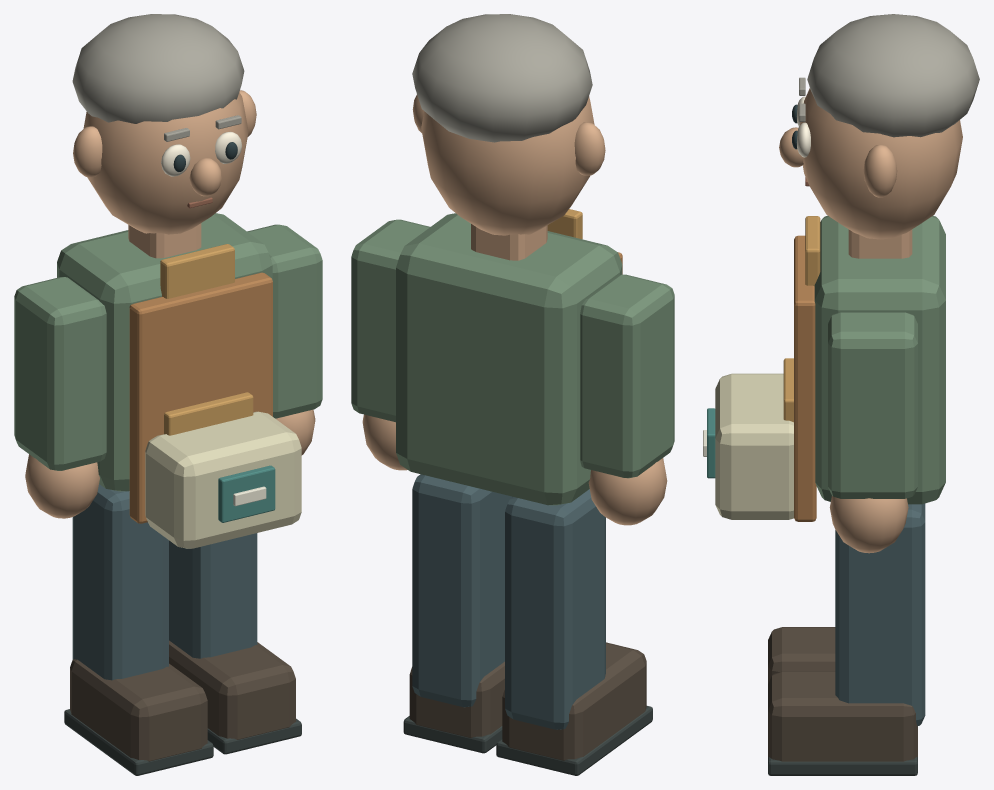
Rendered from master.glb.
3 views of the same model, side by side, from view 1: azimuth 30°, elevation 25°; view 2: azimuth 150°, elevation 25°; view 3: azimuth 270°, elevation 25° (orthographic). The views are drawn at different scales.
Visible parts, largest first — view 1: Apron, Sleeve, Trouser leg, Hair cap, Aid kit case, Jacket, Face, Boot, Trouser leg.001, Sleeve.001, Boot.001, Hand (+11 smaller); view 2: Jacket, Trouser leg, Trouser leg.001, Hair cap, Sleeve, Face, Sleeve.001, Boot, Boot.001, Hand, Sole, Neck (+4 smaller); view 3: Jacket, Sleeve.001, Hair cap, Trouser leg.001, Face, Aid kit case, Boot.001, Apron, Hand.001, Boot, Sole.001, Neck (+5 smaller).
Part boxes in pixels (left/top/right/bottom): Apron: left=129, top=272, right=272, bottom=523; Sleeve: left=14, top=277, right=106, bottom=470; Trouser leg: left=72, top=484, right=168, bottom=680; Hair cap: left=72, top=14, right=244, bottom=123; Aid kit case: left=145, top=411, right=301, bottom=548; Jacket: left=57, top=213, right=272, bottom=491; Face: left=83, top=92, right=248, bottom=234; Boot: left=70, top=659, right=207, bottom=761; Trouser leg.001: left=169, top=533, right=257, bottom=658; Sleeve.001: left=247, top=224, right=322, bottom=418; Boot.001: left=169, top=640, right=295, bottom=739; Hand: left=25, top=454, right=99, bottom=518; Jacket: left=396, top=213, right=622, bottom=505; Trouser leg: left=505, top=489, right=605, bottom=729; Trouser leg.001: left=412, top=474, right=512, bottom=707; Hair cap: left=412, top=14, right=592, bottom=142; Sleeve: left=580, top=274, right=674, bottom=478; Face: left=421, top=96, right=594, bottom=235; Sleeve.001: left=351, top=219, right=429, bottom=422; Boot: left=502, top=642, right=646, bottom=760; Boot.001: left=409, top=661, right=504, bottom=737; Hand: left=588, top=458, right=667, bottom=525; Sole: left=496, top=706, right=652, bottom=775; Neck: left=471, top=224, right=547, bottom=260; Jacket: left=814, top=215, right=945, bottom=504; Sleeve.001: left=828, top=312, right=917, bottom=498; Hair cap: left=807, top=14, right=979, bottom=137; Trouser leg.001: left=835, top=503, right=925, bottom=726; Face: left=800, top=88, right=962, bottom=239; Aid kit case: left=715, top=373, right=793, bottom=519; Boot.001: left=768, top=671, right=917, bottom=761; Apron: left=794, top=235, right=816, bottom=521; Hand.001: left=829, top=496, right=908, bottom=553; Boot: left=768, top=627, right=835, bottom=683; Sole.001: left=768, top=757, right=917, bottom=775; Neck: left=848, top=229, right=912, bottom=258.
Bounding box in the file's own units: 0.89 × 2.09 × 0.7375.
